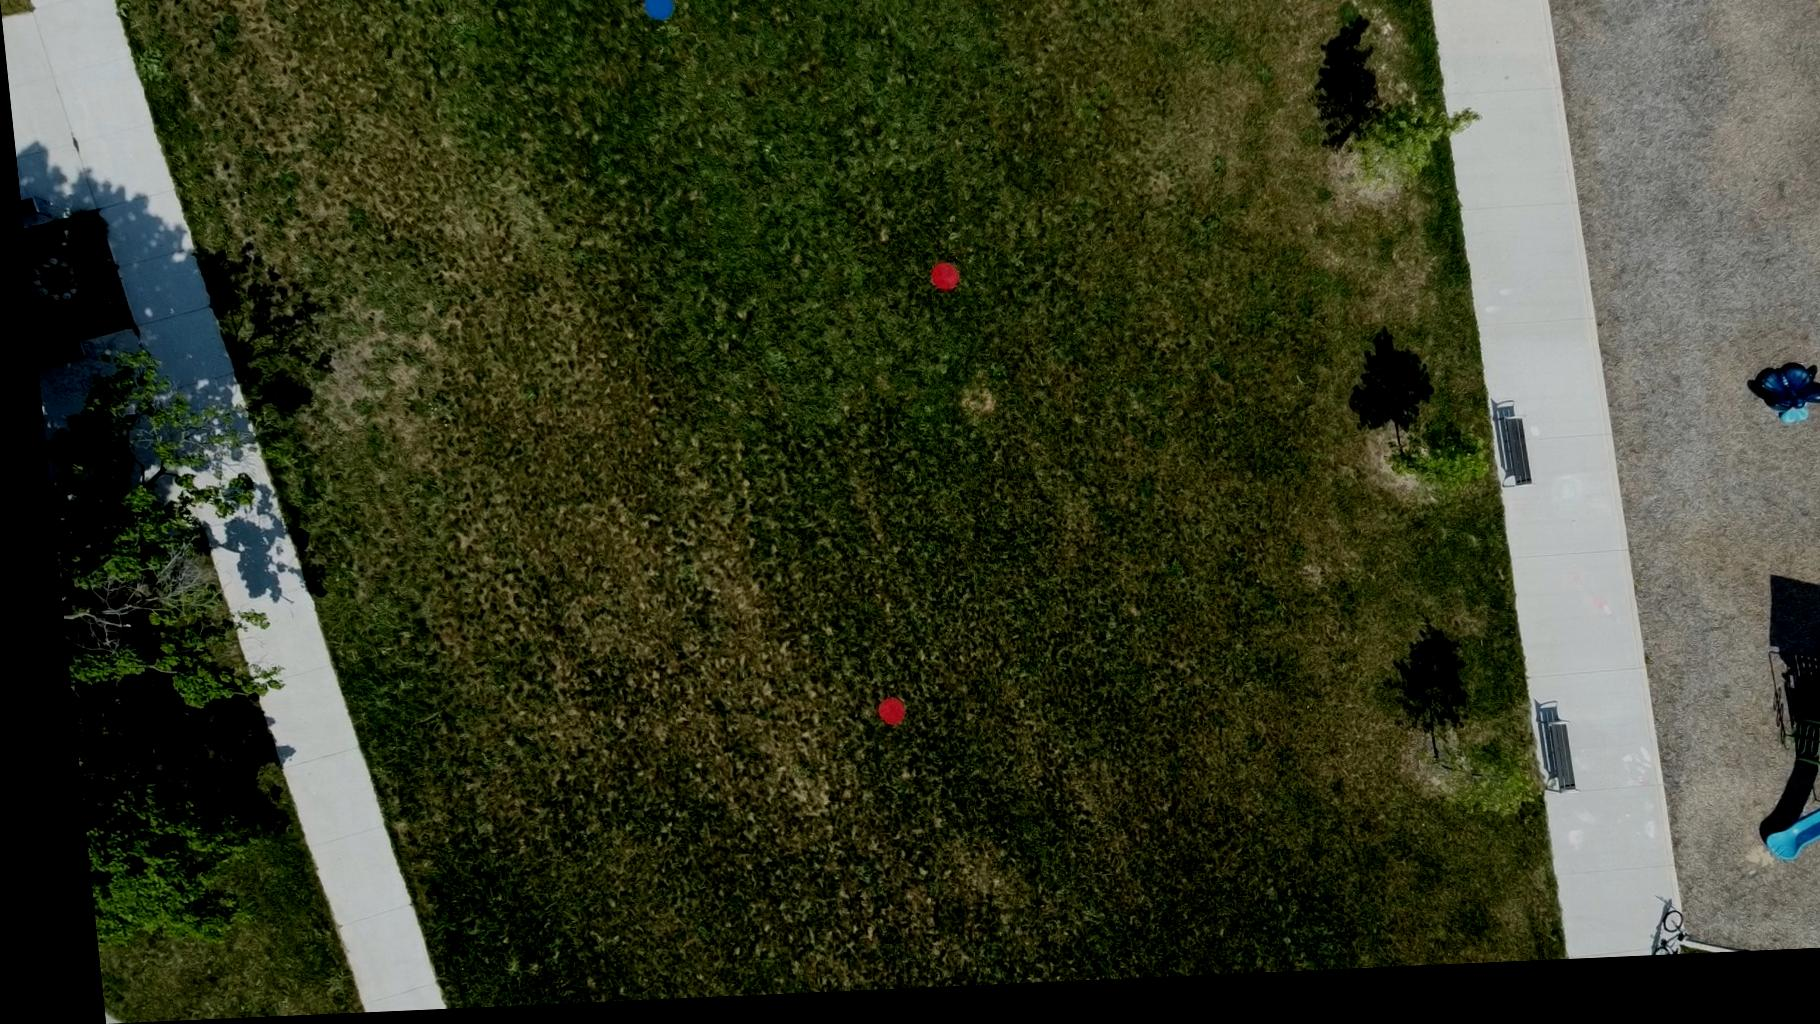Blue: (641, 0, 676, 28)
Red: (920, 269, 955, 301), (859, 703, 890, 734)
